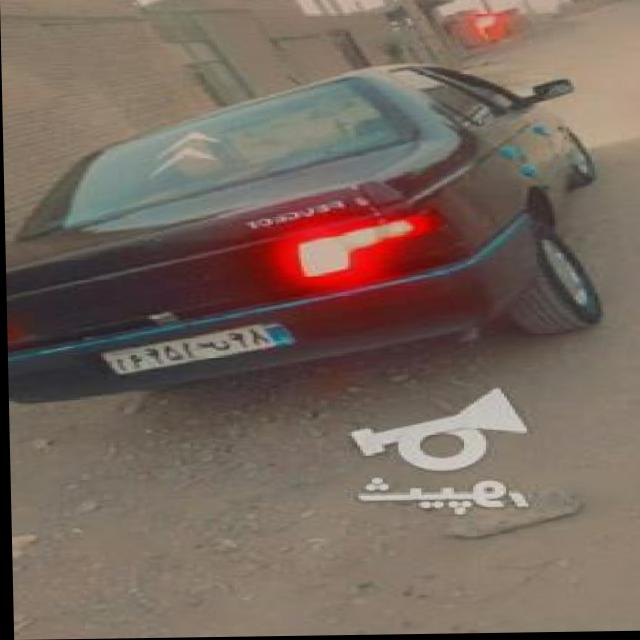licence: (104, 318, 299, 377)
